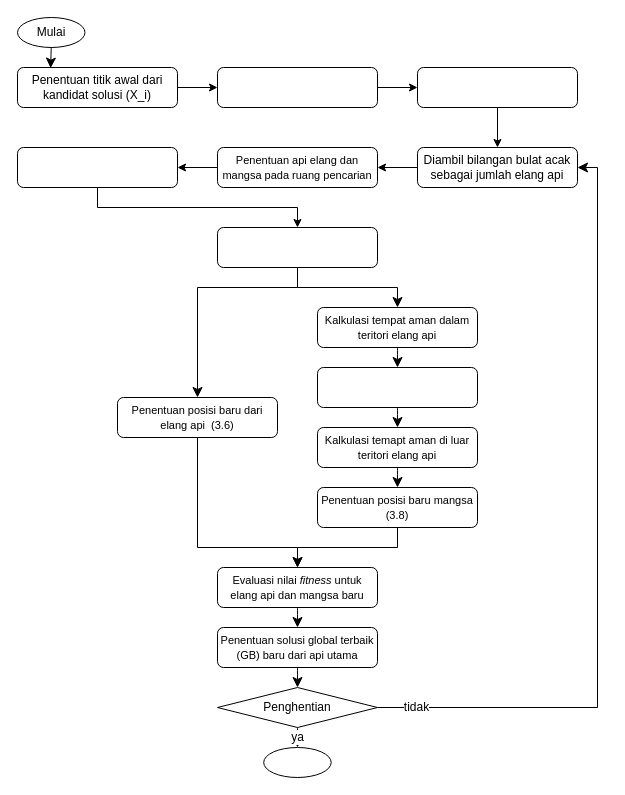
Some shapes in this 625 by 795 pixel diagram are drawn without their labels. The centre of each missing label's shape, as x and y in pixels:
"Evaluasi nilai fitness dari kandidat solusi awal" goes at pixel 297 87.
"Kalkulasi jumlah ajarak antara elang api dan mangsa" goes at pixel 97 167.
"Penentuan posisi baru mangsa (3.7)" goes at pixel 397 387.
"Penentuan solusi Global Terbaik sebagai api utama" goes at pixel 497 87.
"Penentuan teritori dari elang api dengan mengacaukan mangsa" goes at pixel 297 247.
"Selesai" goes at pixel 297 762.
